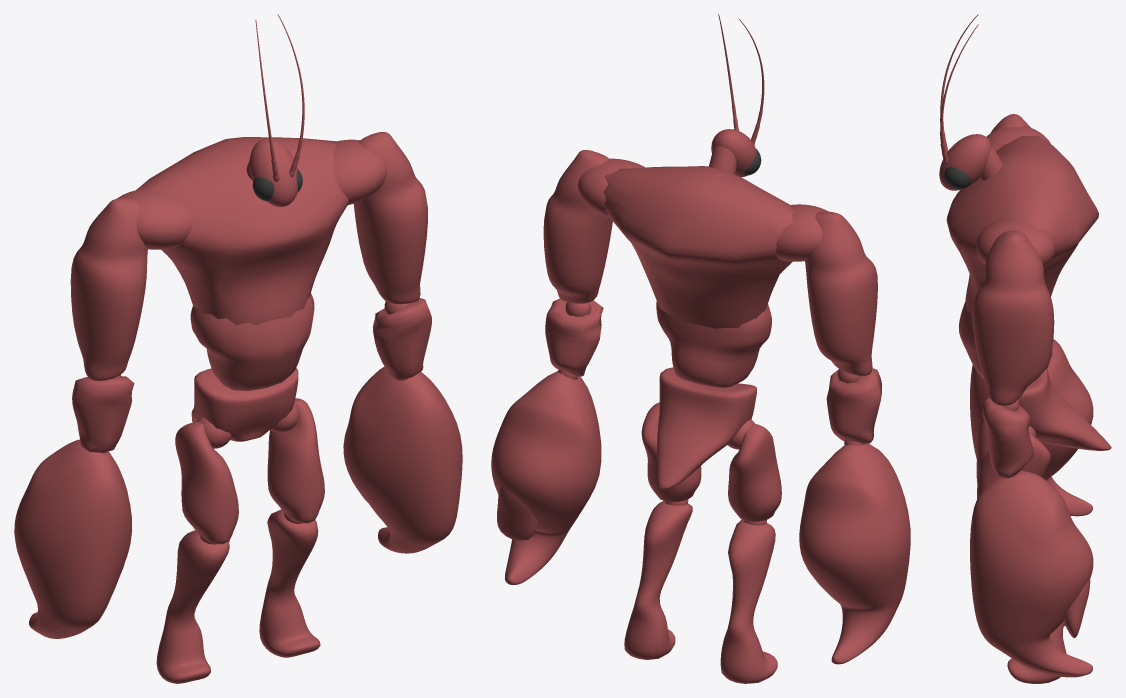
The model's file is Charger.fbx.
3 views of the same model, side by side, from view 1: azimuth 30°, elevation 25°; view 2: azimuth 150°, elevation 25°; view 3: azimuth 270°, elevation 25° (orthographic). The views are drawn at different scales.
Visible parts, largest first — view 1: L_upperClaw_GEO, torso_GEO, L_arm_GEO, L_calves_GEO, L_thigh_GEO, L_foreArm_GEO, stomach_GEO, L_shoulder_GEO, pelvis_GEO, head_GEO, antenne_GEO, L_hip_GEO; view 2: L_upperClaw_GEO, torso_GEO, L_arm_GEO, L_calves_GEO, pelvis_GEO, L_foreArm_GEO, L_thigh_GEO, stomach_GEO, L_shoulder_GEO, L_lowerClaw_GEO, head_GEO, antenne_GEO; view 3: L_upperClaw_GEO, torso_GEO, L_arm_GEO, pelvis_GEO, L_foreArm_GEO, L_shoulder_GEO, head_GEO, L_thigh_GEO, L_calves_GEO, stomach_GEO, L_lowerClaw_GEO, antenne_GEO (+2 smaller).
Part boxes in pixels (x1,y1,x2,y2): L_upperClaw_GEO: (14,366,462,638); torso_GEO: (136,137,348,325); L_arm_GEO: (70,132,427,380); L_calves_GEO: (156,509,320,683); L_thigh_GEO: (175,398,324,544); L_foreArm_GEO: (72,298,431,452); stomach_GEO: (190,293,314,390); L_shoulder_GEO: (117,139,386,249); pelvis_GEO: (191,368,298,441); head_GEO: (249,138,297,206); antenne_GEO: (255,14,304,181); L_hip_GEO: (196,403,298,448); L_upperClaw_GEO: (491,371,910,664); torso_GEO: (603,166,793,328); L_arm_GEO: (543,150,877,375); L_calves_GEO: (624,501,777,683); pelvis_GEO: (657,367,756,489); L_foreArm_GEO: (545,298,881,444); L_thigh_GEO: (641,402,781,521); stomach_GEO: (656,301,771,387); L_shoulder_GEO: (578,158,828,261); L_lowerClaw_GEO: (497,486,538,540); head_GEO: (711,129,756,177); antenne_GEO: (718,14,764,144); L_upperClaw_GEO: (970,339,1093,677); torso_GEO: (946,135,1098,314); L_arm_GEO: (972,114,1054,405); pelvis_GEO: (1018,368,1111,450); L_foreArm_GEO: (982,397,1033,478); L_shoulder_GEO: (976,126,1055,266); head_GEO: (939,134,991,190); L_thigh_GEO: (976,418,1050,499); L_calves_GEO: (1007,622,1066,683); stomach_GEO: (959,301,1052,378); L_lowerClaw_GEO: (1063,579,1090,638); antenne_GEO: (940,14,978,163).
Size of the model in its own units: 5.1 by 7.58 by 1.87.
